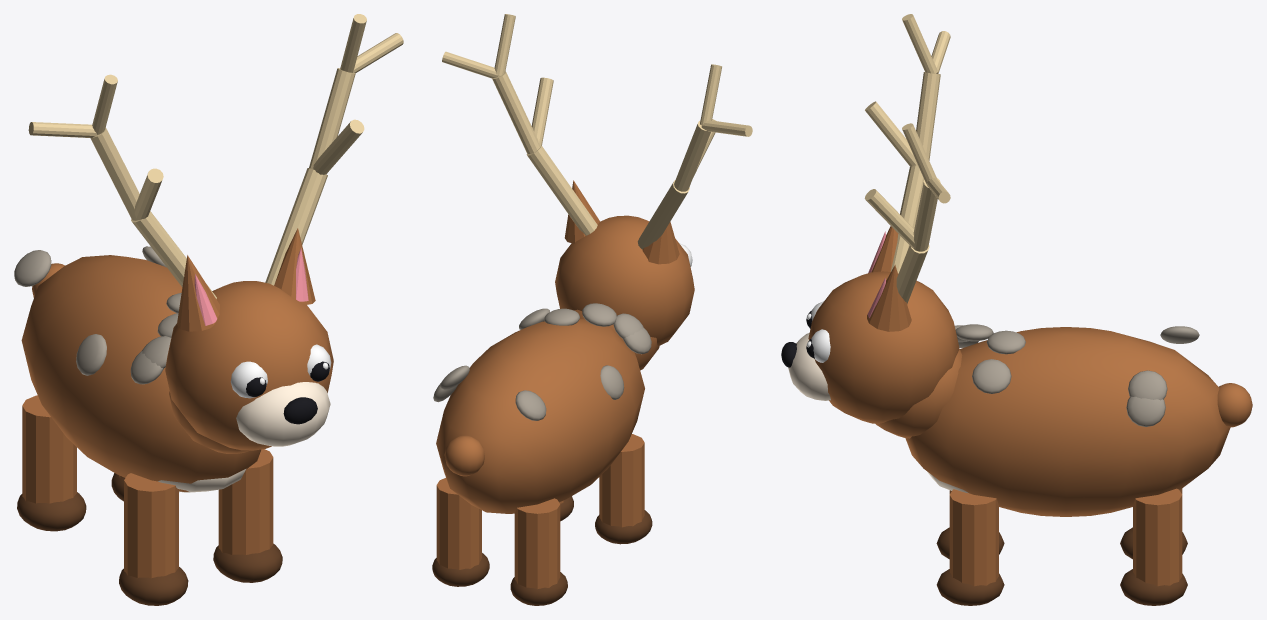
3 renders of one model, left to right at view 1: azimuth 30°, elevation 25°; view 2: azimuth 150°, elevation 25°; view 3: azimuth 270°, elevation 25°, orthographic. The views are drawn at different scales.
Parts seen in each view (by area): view 1: Deer; view 2: Deer; view 3: Deer.
Boxes of the visible parts, <box> form: Deer: <box>14,14,403,605</box>; Deer: <box>432,14,752,605</box>; Deer: <box>781,14,1252,605</box>.
Size of the model in its own units: 3.12 by 4.57 by 3.82.
Materials: 1 (1 with a texture image).
